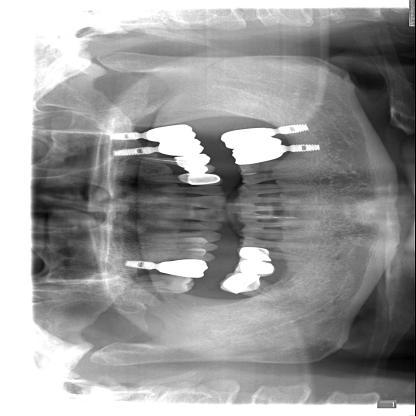Bicon: (109, 146, 159, 158), (118, 257, 160, 271), (272, 124, 313, 136), (286, 142, 326, 154), (107, 130, 144, 142)
